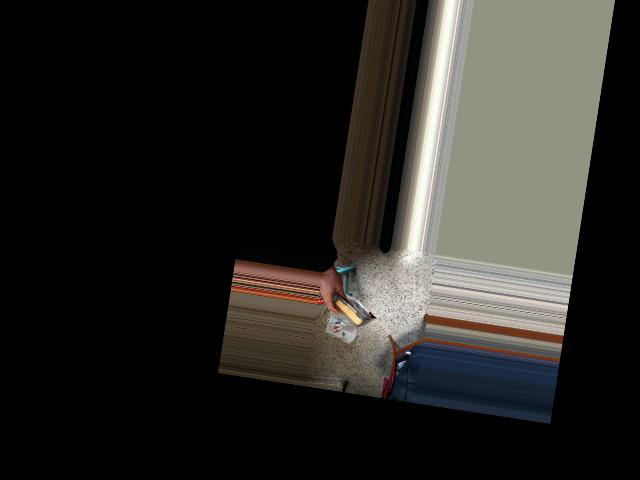cheese: (317, 286, 380, 331)
